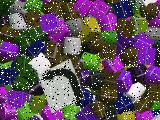Left: (38, 59, 84, 113)
